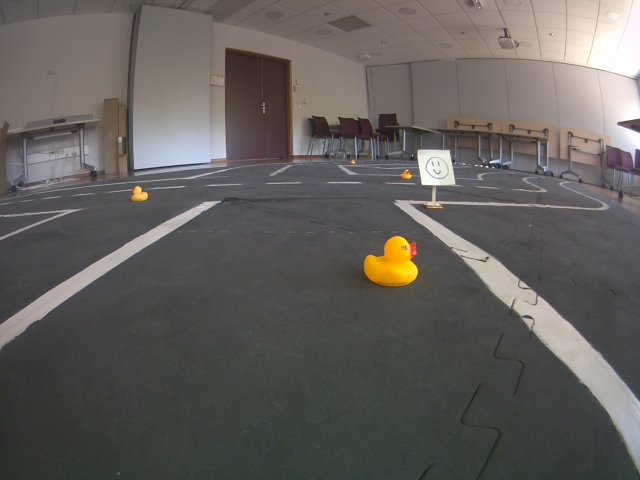Smiley: (414, 148, 456, 186)
